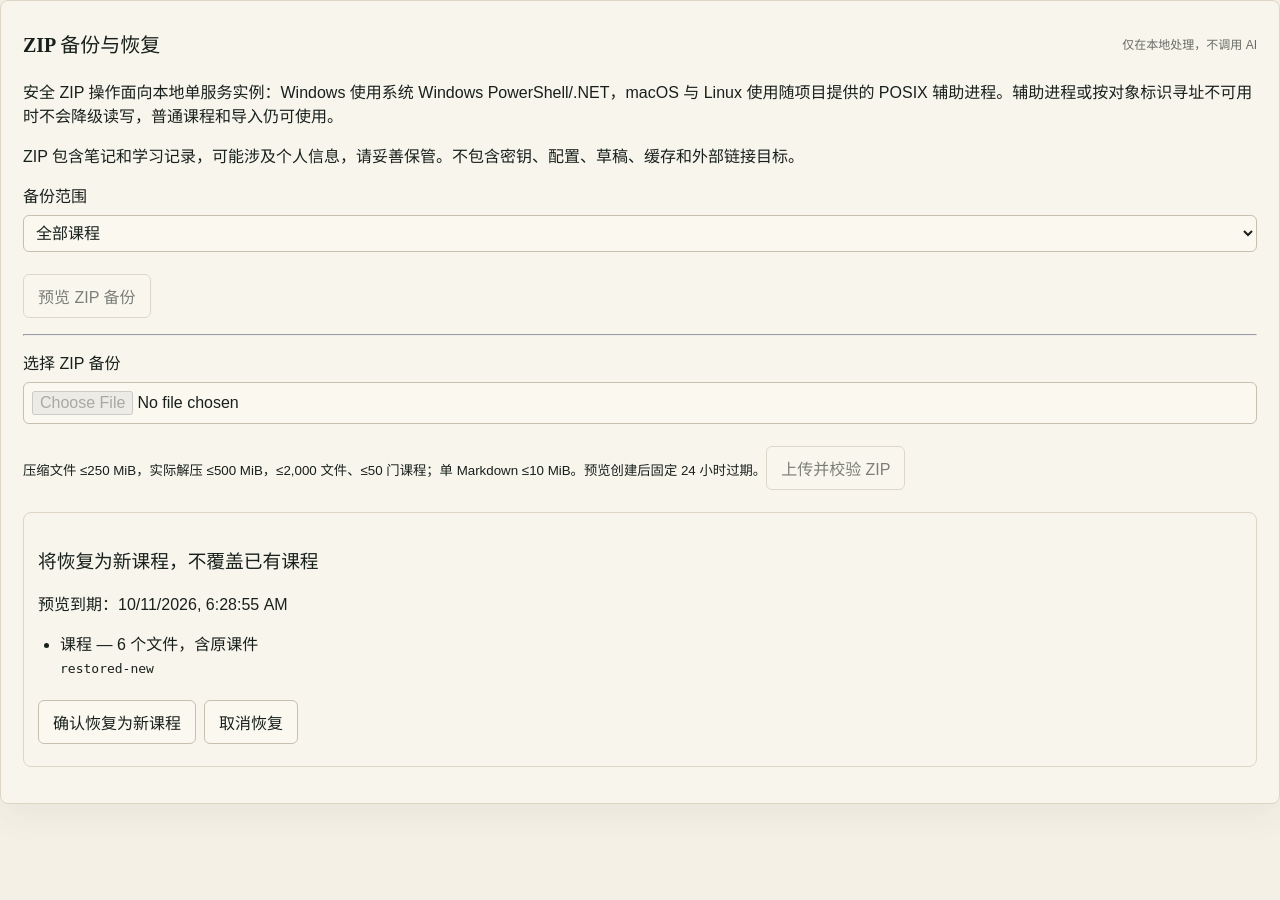
Test: recovers a saved preview URL and cancels without confirmation
Click the button "取消恢复": (251, 722) [204,700,298,744]
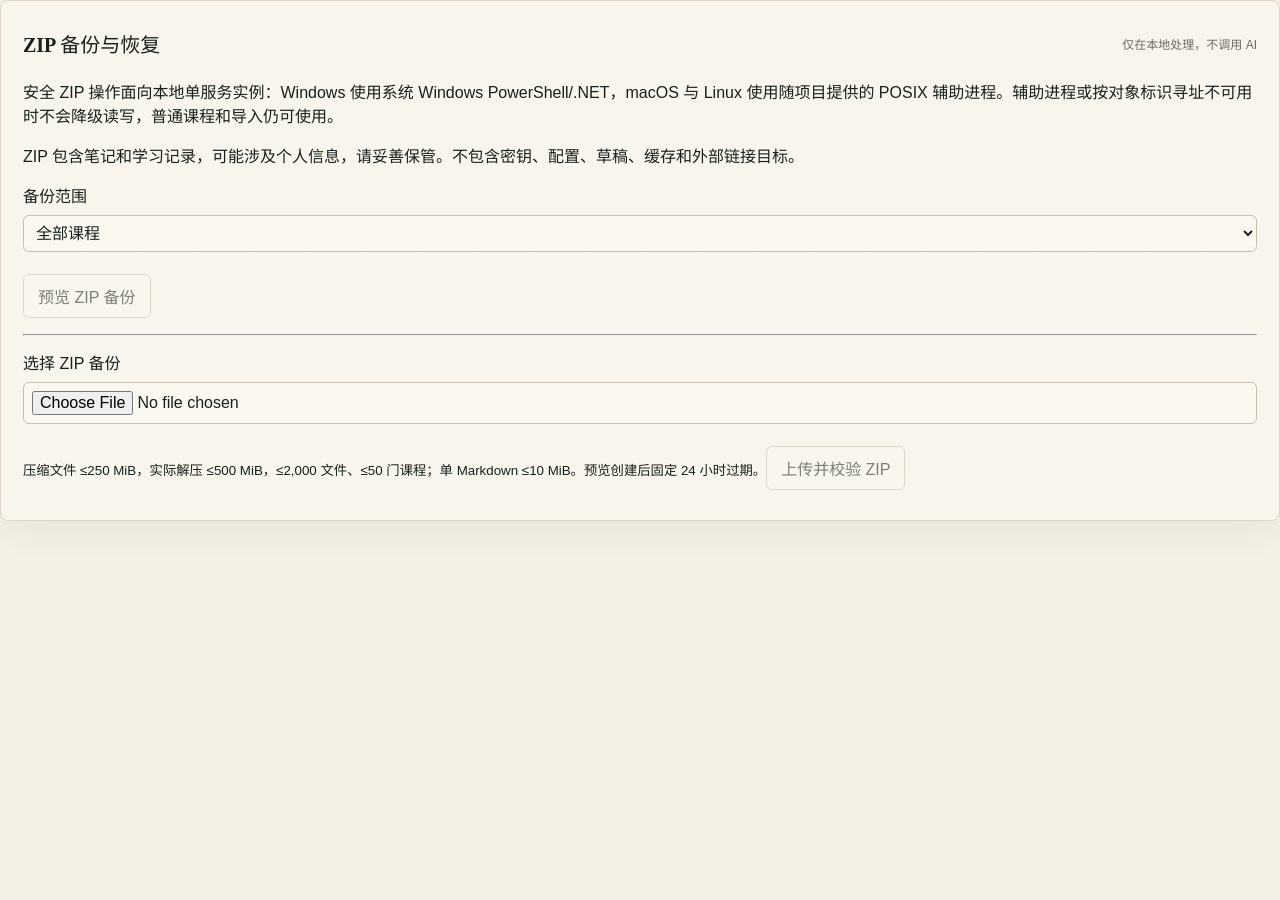
Now the button "确认恢复为新课程" is gone
